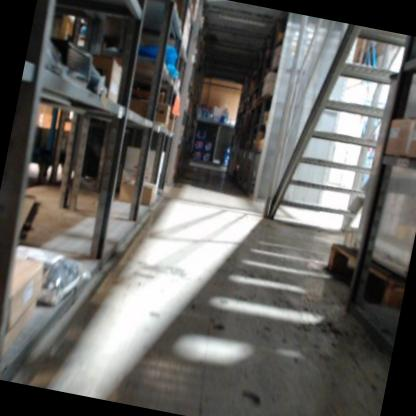pallet: (321, 240, 411, 312)
